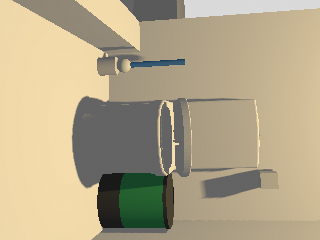lid_1: (173, 98, 191, 175)
